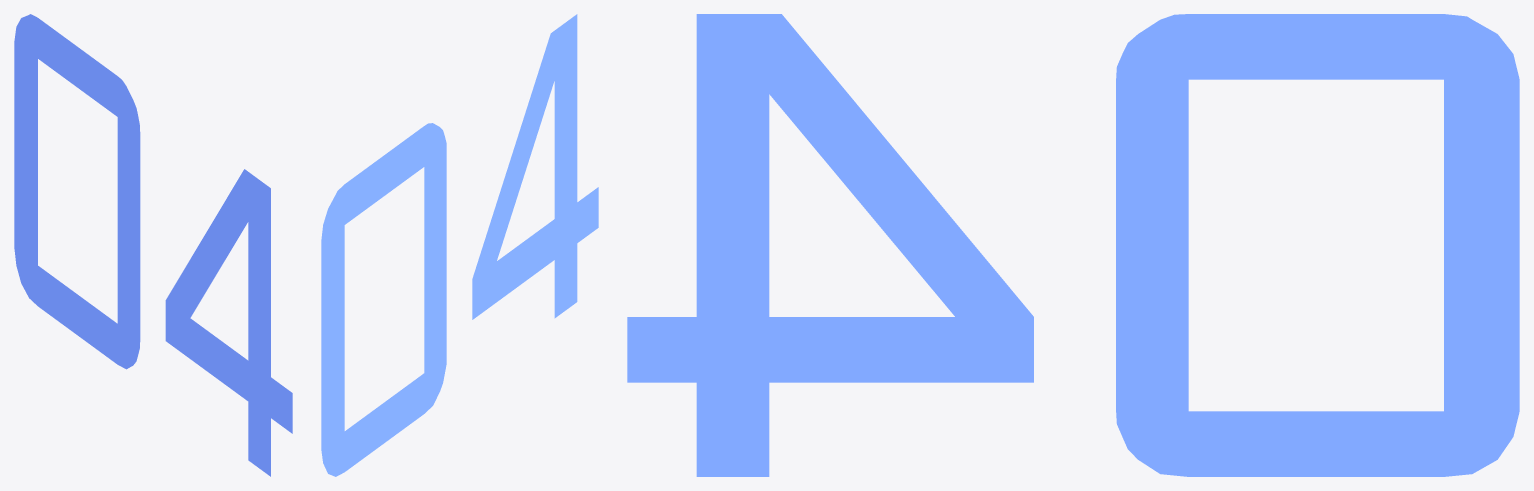
File: numeroPortal_Okex_04.glb
3 views of the same model, side by side, from view 1: azimuth 30°, elevation 25°; view 2: azimuth 150°, elevation 25°; view 3: azimuth 270°, elevation 25° (orthographic). The views are drawn at different scales.
Visible parts, largest first — view 1: 04; view 2: 04; view 3: 04.
Boxes of the visible parts, bbox=[...] form: 04: bbox=[14, 14, 292, 476]; 04: bbox=[321, 14, 598, 476]; 04: bbox=[627, 14, 1519, 476].
Bounding box in the file's own units: 0 × 0.2928 × 0.5114.
